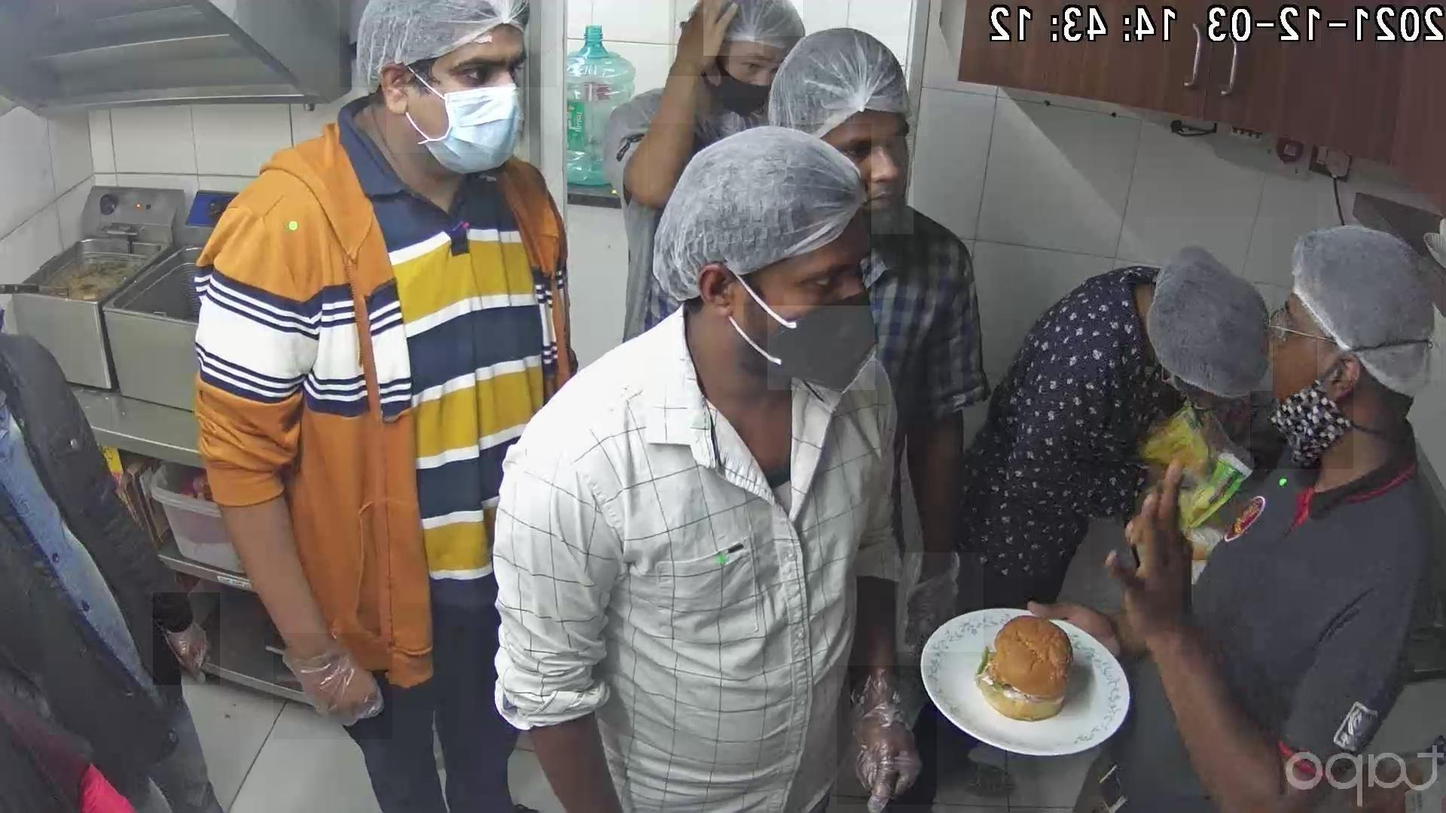apron: (837, 665, 937, 805), (274, 633, 393, 739), (895, 553, 984, 652), (154, 593, 221, 686)
gloves: (648, 123, 871, 306), (1317, 194, 1441, 381), (1146, 217, 1274, 391), (340, 0, 557, 87), (764, 36, 929, 136), (703, 0, 803, 56)
mask: (768, 248, 876, 390), (387, 56, 520, 154), (708, 57, 783, 98)
no_apron: (1091, 447, 1210, 656), (669, 0, 729, 76)
no_hairnet: (1251, 337, 1354, 470), (851, 112, 914, 235)
